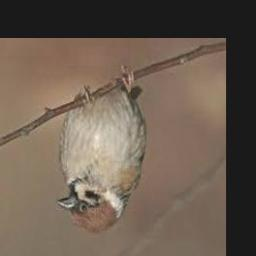Sparrow: (56, 67, 146, 234)
